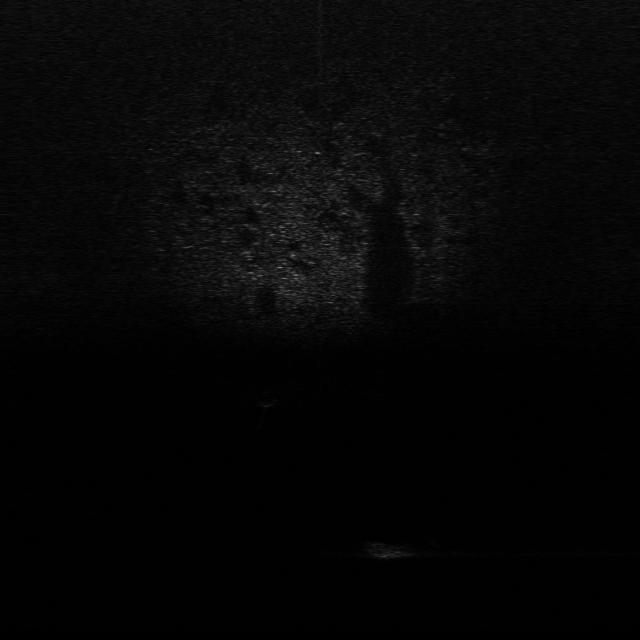ball: (252, 387, 278, 409)
metal bucket: (366, 539, 416, 562)
